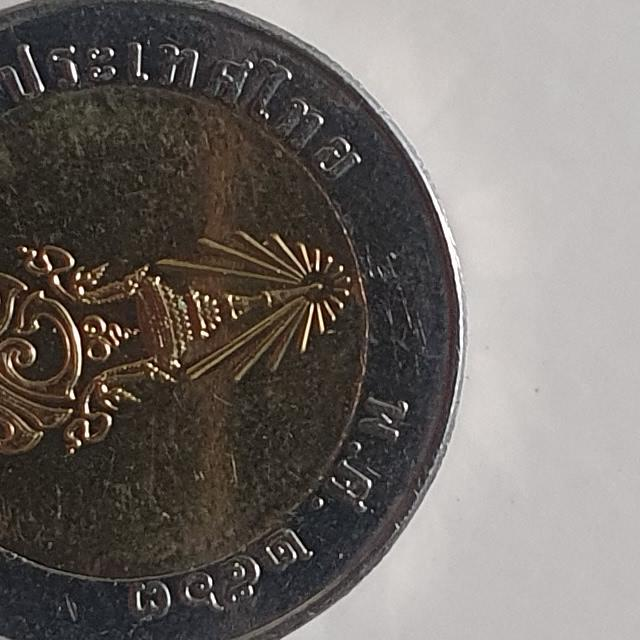10 Bath: (1, 1, 474, 640)
